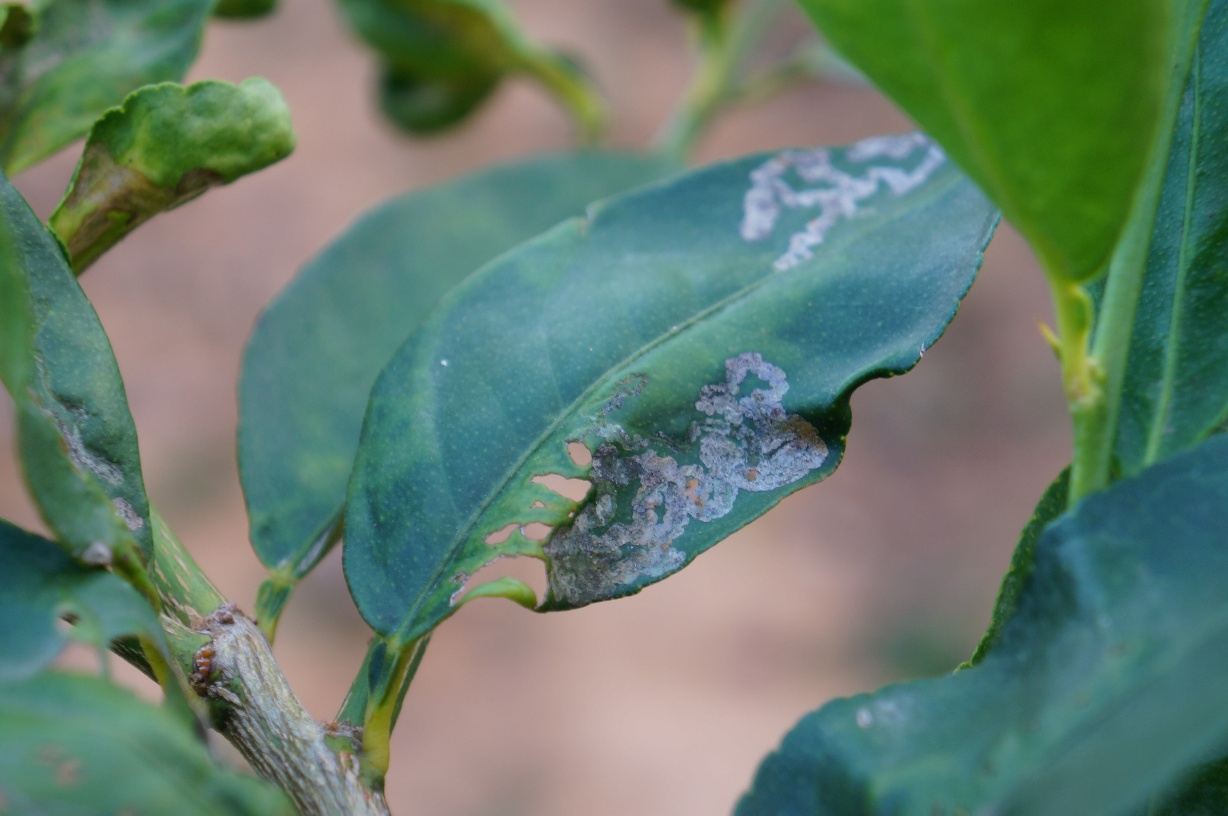damage: (523, 341, 869, 627)
